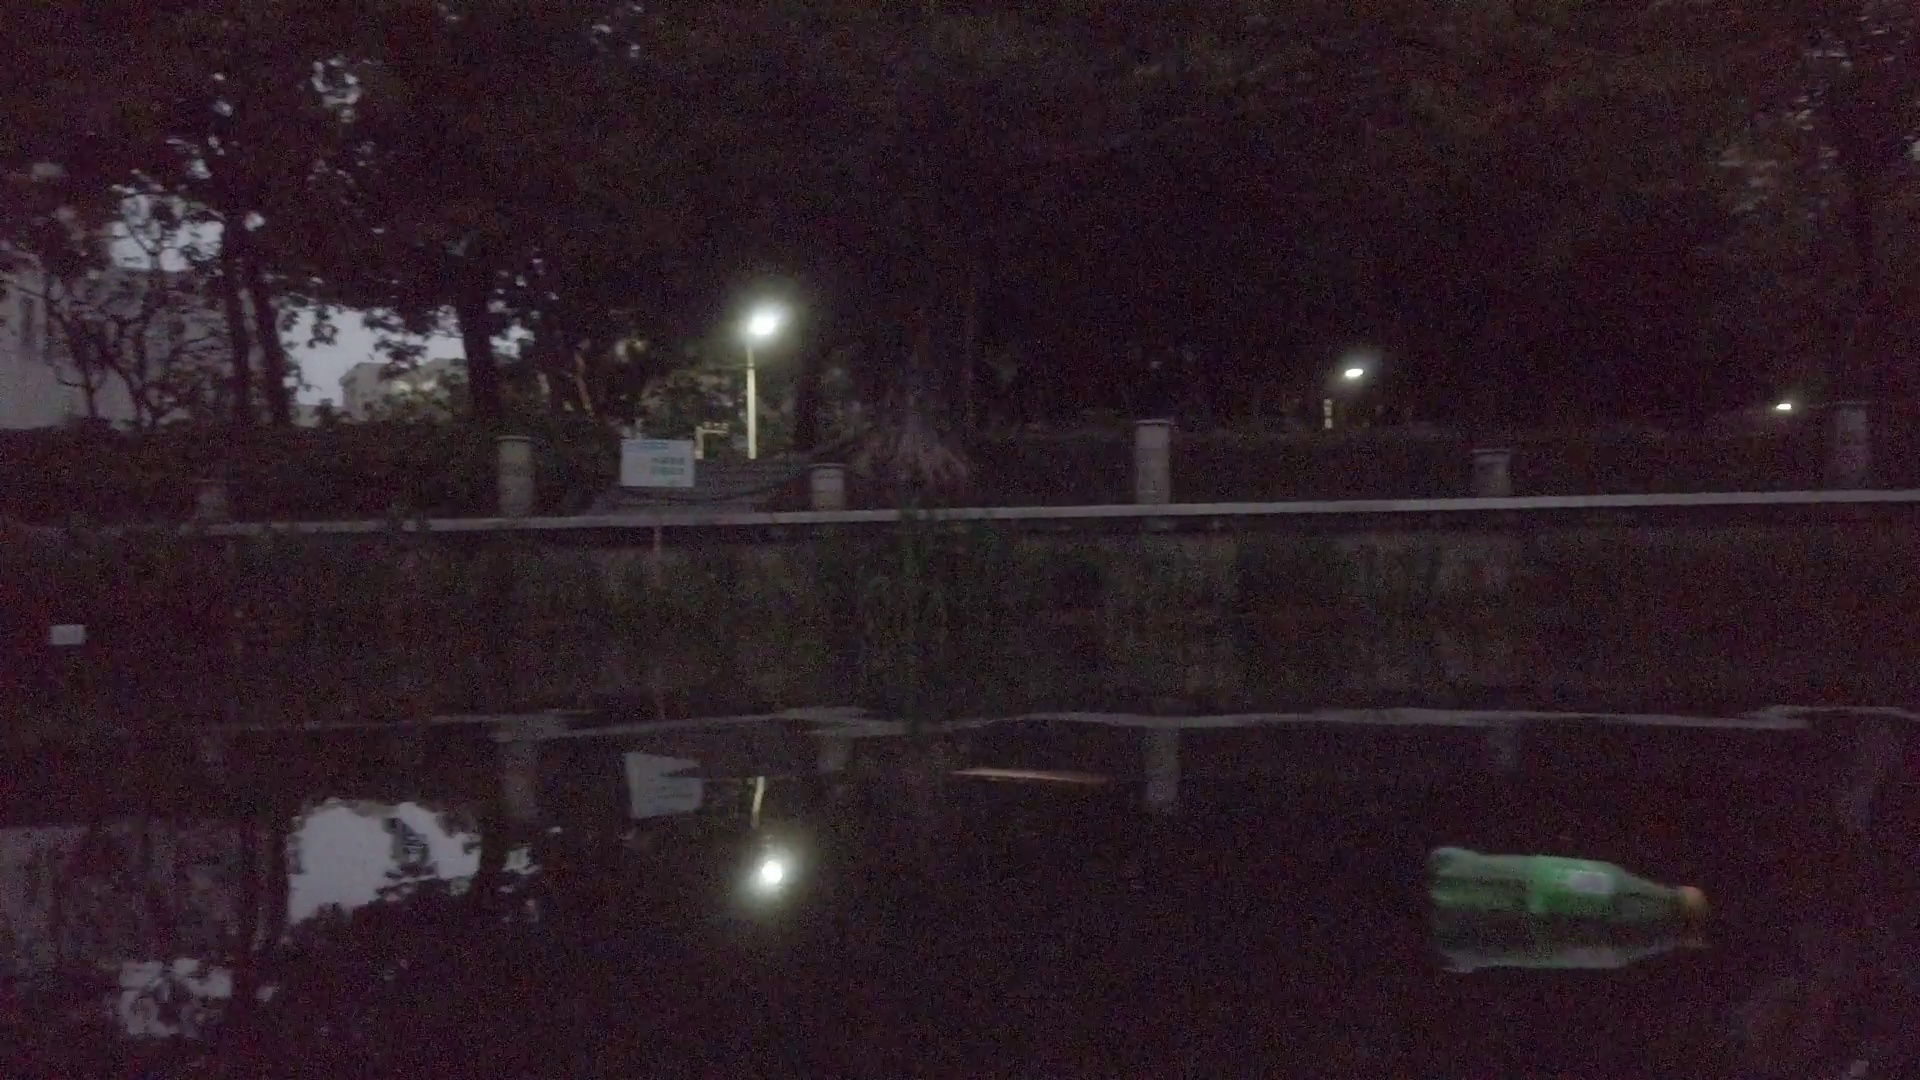bottle: (1433, 844, 1706, 932)
carton: (50, 622, 90, 645)
